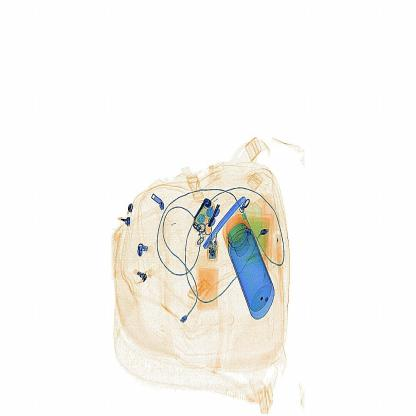pliers: (199, 184, 253, 249)
